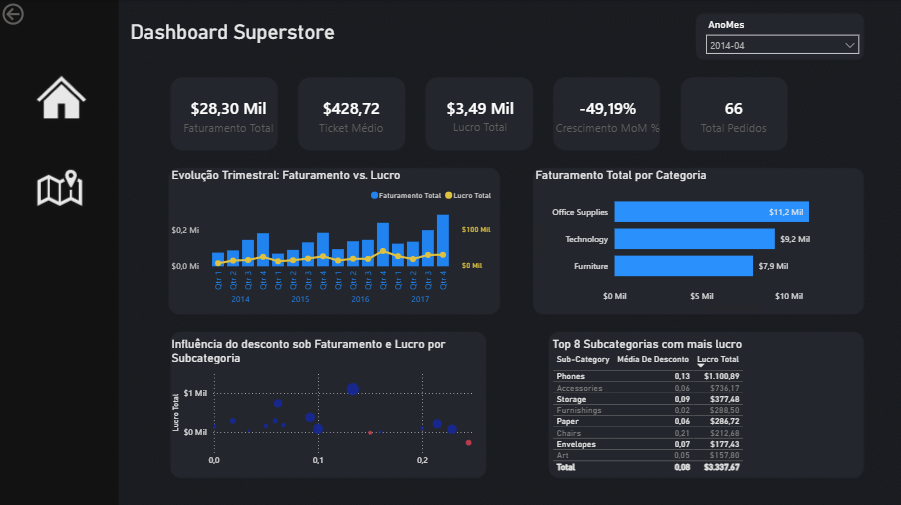

This screenshot's page, from the dashboard's own definition file:
{"tool":"powerbi","page":{"name":"Home","canvas":[1280,720],"ordinal":0},"visuals":[{"type":"cardVisual","fields":{"Data":["Metricas.Faturamento Total"]},"box":[226.6,108.9,197.1,110.3],"z":0},{"type":"cardVisual","fields":{"Data":["Metricas.Total Pedidos"]},"box":[962.6,108.8,158.2,111],"z":1000},{"type":"cardVisual","fields":{"Data":["Metricas.Lucro Liquido"]},"box":[574.5,109.2,216.7,109.2],"z":2000},{"type":"cardVisual","fields":{"Data":["Metricas.Ticket Médio"]},"box":[423.7,108.9,151.5,110.3],"z":3000},{"type":"slicer","fields":{"Values":["Calendario.AnoMes"]},"box":[992.8,21.8,236.9,63.8],"z":4000},{"type":"cardVisual","fields":{"Data":["Metricas.Crescimento MoM %"]},"box":[755.4,109.1,215.4,110.6],"z":5000},{"type":"lineStackedColumnComboChart","title":"Evolução Trimestral: Faturamento vs. Lucro","fields":{"Y":["Metricas.Faturamento Total"],"Y2":["Metricas.Lucro Total"],"Category":["Calendario.Date.Variation.Hierarquia de datas.Ano","Calendario.Date.Variation.Hierarquia de datas.Trimestre"]},"box":[239.5,238.1,467.7,208.3],"z":6000},{"type":"actionButton","box":[0,0,100,40],"z":7000},{"type":"barChart","title":"Faturamento Total por Categoria","fields":{"Category":["Superstore.Category","Superstore.Sub-Category"],"Y":["Metricas.Faturamento Total"]},"box":[755.9,238.5,473.7,208.3],"z":8000},{"type":"scatterChart","title":"Influência do desconto sob Faturamento e Lucro por Subcategoria","fields":{"Category":["Superstore.Sub-Category"],"X":["Metricas.Média De Desconto"],"Y":["Metricas.Lucro Total"],"Size":["Metricas.Faturamento Total"]},"box":[239.6,478,447.3,192.3],"z":9000},{"type":"tableEx","title":"Top 8 Subcategorias com mais lucro","fields":{"Values":["Superstore.Sub-Category","Metricas.Média De Desconto","Metricas.Lucro Total"]},"box":[780,477.8,450,202.2],"z":10000},{"type":"textbox","box":[181.4,22.9,318.6,62.9],"z":11000},{"type":"actionButton","box":[38.1,86.2,100.6,102.5],"z":12000},{"type":"actionButton","box":[38.6,218.4,100.8,95.7],"z":13000}]}

Visuals, with their boxes on the page's 1280x720 design canvas (x1, y1, x2, y2). These are canvas units, not pixel positions in the 901x505 screenshot, which may show the page scaled, cropped or inside an application window:
cardVisual - Metricas.Faturamento Total: rect(227, 109, 424, 219)
cardVisual - Metricas.Total Pedidos: rect(963, 109, 1121, 220)
cardVisual - Metricas.Lucro Liquido: rect(574, 109, 791, 218)
cardVisual - Metricas.Ticket Médio: rect(424, 109, 575, 219)
slicer - Calendario.AnoMes: rect(993, 22, 1230, 86)
cardVisual - Metricas.Crescimento MoM %: rect(755, 109, 971, 220)
"Evolução Trimestral: Faturamento vs. Lucro" lineStackedColumnComboChart: rect(240, 238, 707, 446)
actionButton: rect(0, 0, 100, 40)
"Faturamento Total por Categoria" barChart: rect(756, 238, 1230, 447)
"Influência do desconto sob Faturamento e Lucro por Subcategoria" scatterChart: rect(240, 478, 687, 670)
"Top 8 Subcategorias com mais lucro" tableEx: rect(780, 478, 1230, 680)
textbox: rect(181, 23, 500, 86)
actionButton: rect(38, 86, 139, 189)
actionButton: rect(39, 218, 139, 314)
